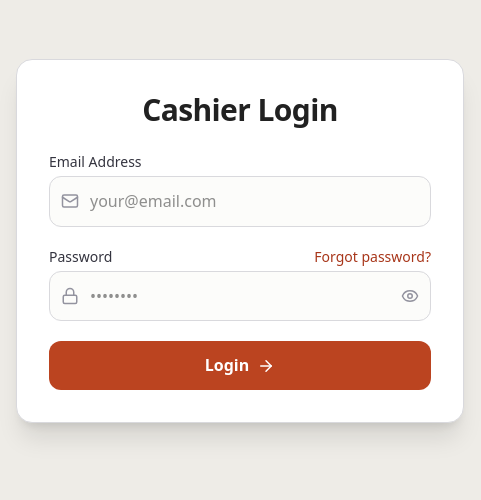
Test: signing in through the shared form › a staff member whose email isn't verified is told to verify, and gets the email
Step 1. Type "dara@x.test" into the field labelled "Email Address" → [240, 201], box [49, 176, 431, 227]
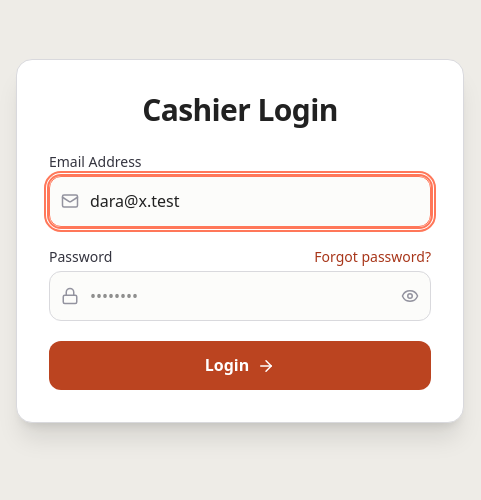
Step 2. Type "secret-123" into the password field labelled "Password" → [240, 296], box [49, 271, 431, 321]
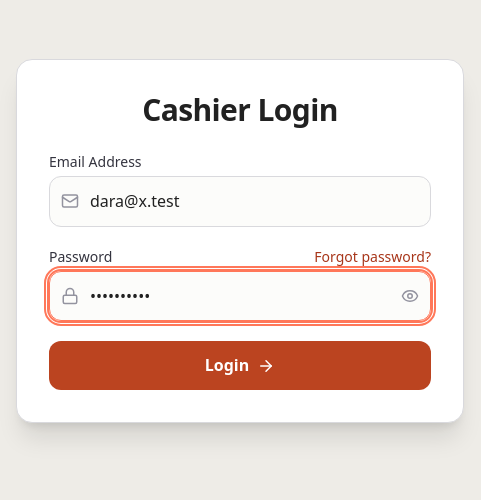
Step 3. Click the button "Login" → [240, 366], box [49, 341, 431, 390]
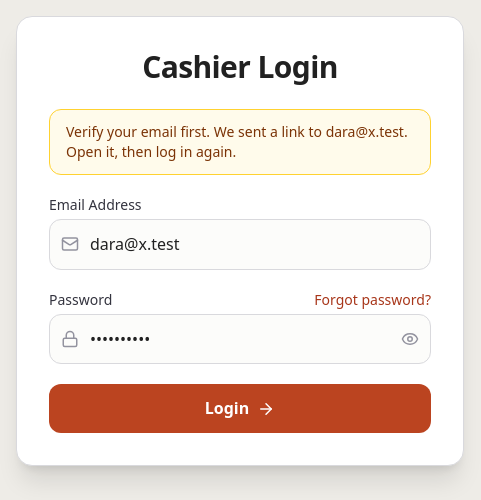
Expected: the message shows "Verify your email first", [66, 122, 408, 161]
